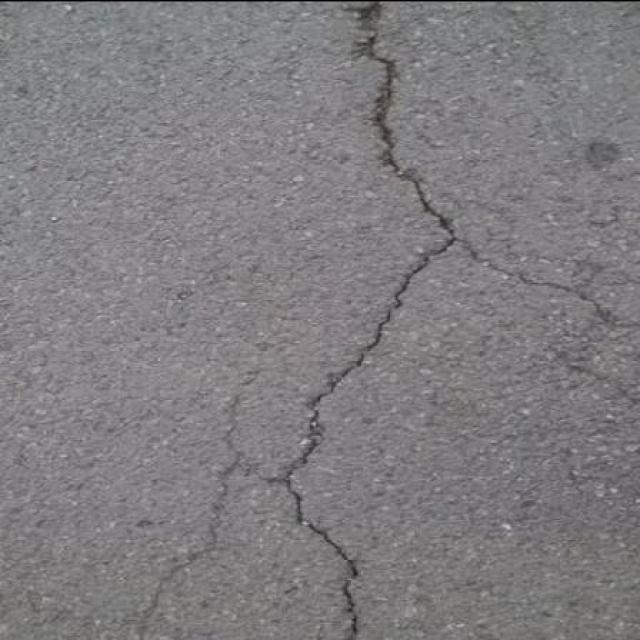Crack: (138, 234, 639, 639), (351, 0, 452, 232)
